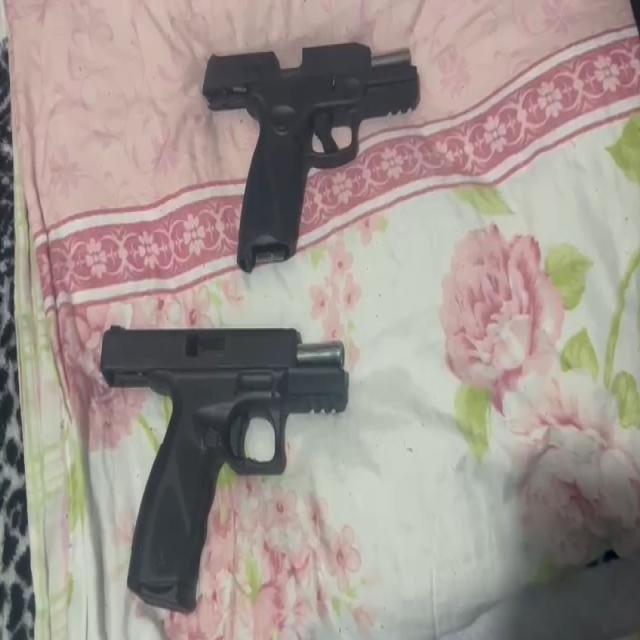guns: (99, 320, 353, 615), (203, 37, 421, 274)
